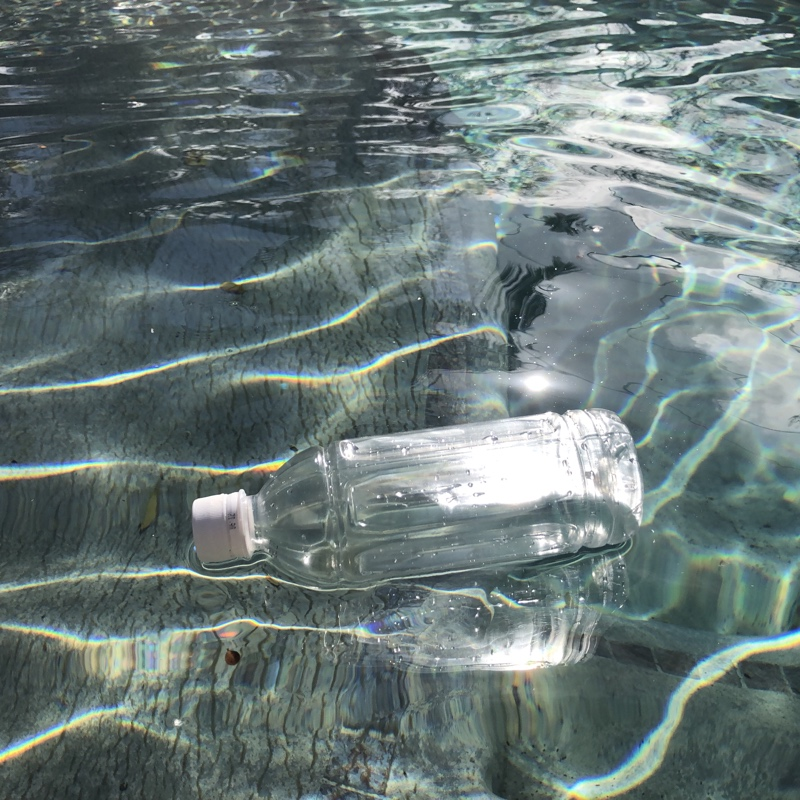Plastic Bottle: (184, 406, 644, 595)
